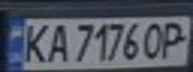1: (90, 20, 109, 62)
6: (121, 20, 145, 61)
7: (69, 20, 93, 63), (106, 20, 127, 62)
A: (42, 20, 72, 63)
K: (18, 20, 54, 64)
O: (139, 19, 169, 61)
P: (157, 18, 193, 60)
